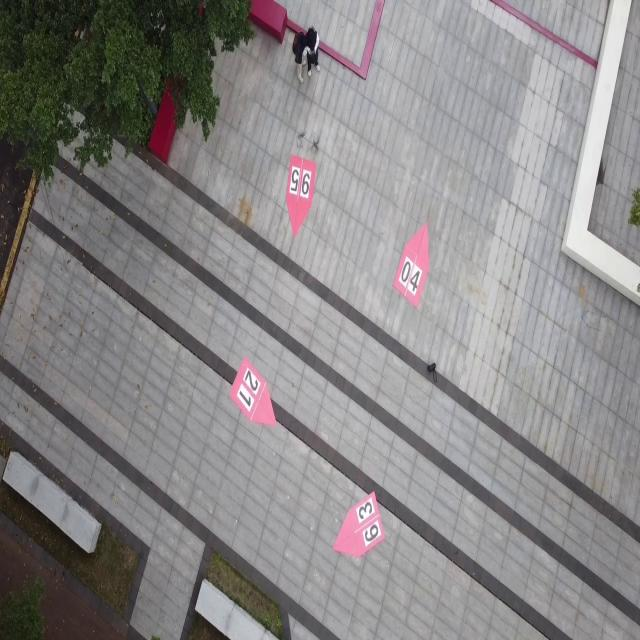-sign-: (270, 134, 323, 242), (392, 220, 430, 308)
